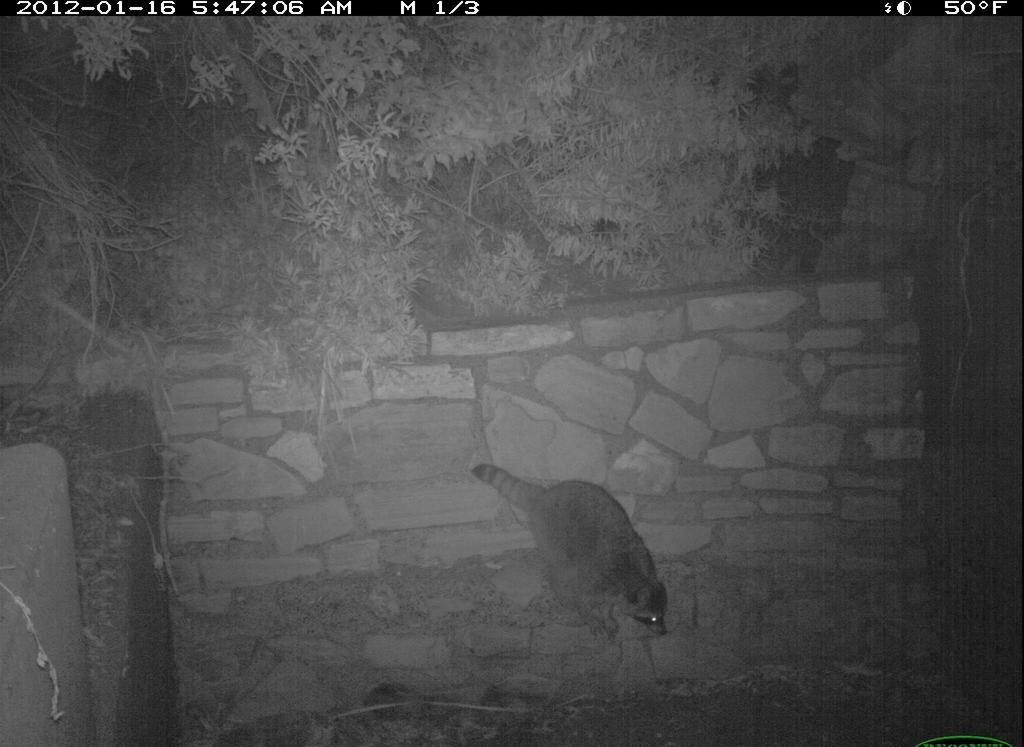raccoon: (466, 450, 684, 656)
